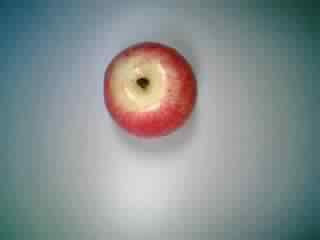apple: (100, 40, 199, 138)
